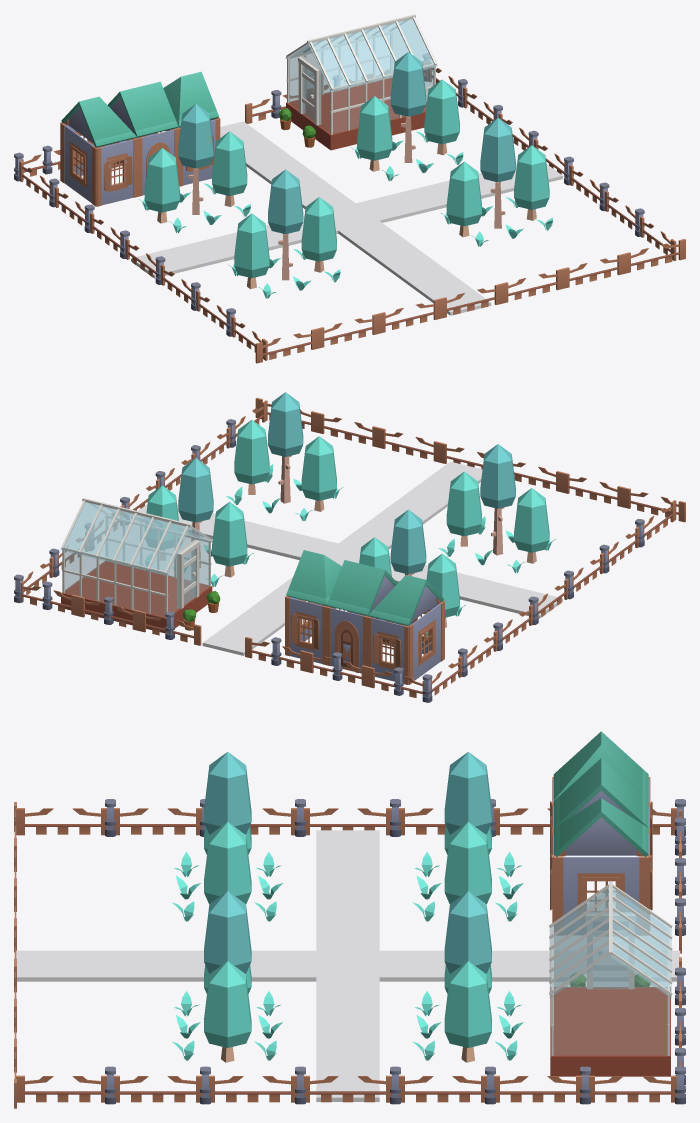
File: london_bld_botanic.glb
3 views of the same model, one above another, from view 1: azimuth 30°, elevation 25°; view 2: azimuth 150°, elevation 25°; view 3: azimuth 270°, elevation 25° (orthographic). The views are drawn at different scales.
Parts seen in each view (by area): view 1: tree_fat (×8), Plate_Pavement_01 (×11), tree_default_dark (×4), Greenhouse glass, wall-window-shutters (×3), balcony-wall-fence (×7), Greenhouse roof glass, roof-gable-end (×2), Greenhouse base, Greenhouse frame, roof-gable, wall-door (+1 smaller); view 2: tree_fat (×8), Plate_Pavement_01 (×10), Greenhouse glass, tree_default_dark (×4), balcony-wall-fence (×11), wall-window-shutters (×3), Greenhouse roof glass, Greenhouse base, Greenhouse frame, roof-gable-end (×2), roof-gable, wall-door (+3 smaller); view 3: Plate_Pavement_01 (×13), Greenhouse glass, tree_fat (×4), tree_default_dark (×4), balcony-wall-fence (×11), Greenhouse base, roof-gable-end (×2), Greenhouse roof glass, wall-window-shutters, Greenhouse frame, roof-gable, Greenhouse door frame (+1 smaller).
Boxes of the visible parts, <box> form: tree_fat (×8): <box>144,79,549,289</box>; Plate_Pavement_01 (×11): <box>131,121,501,315</box>; tree_default_dark (×4): <box>178,52,515,280</box>; Greenhouse glass: <box>289,19,433,133</box>; wall-window-shutters (×3): <box>60,118,219,206</box>; balcony-wall-fence (×7): <box>255,239,685,363</box>; Greenhouse roof glass: <box>285,19,437,92</box>; roof-gable-end (×2): <box>61,71,218,147</box>; Greenhouse base: <box>286,78,426,150</box>; Greenhouse frame: <box>286,14,436,134</box>; roof-gable: <box>107,81,178,137</box>; wall-door: <box>137,128,178,196</box>; tree_fat (×8): <box>145,420,549,627</box>; Plate_Pavement_01 (×10): <box>199,461,562,655</box>; Greenhouse glass: <box>65,502,208,616</box>; tree_default_dark (×4): <box>178,392,515,576</box>; balcony-wall-fence (×11): <box>20,412,685,697</box>; wall-window-shutters (×3): <box>285,597,444,684</box>; Greenhouse roof glass: <box>60,502,212,575</box>; Greenhouse base: <box>61,561,212,633</box>; Greenhouse frame: <box>61,498,211,618</box>; roof-gable-end (×2): <box>286,550,443,625</box>; roof-gable: <box>327,560,397,615</box>; wall-door: <box>326,606,367,673</box>; Plate_Pavement_01 (×13): <box>16,830,680,1101</box>; Greenhouse glass: <box>554,889,667,1055</box>; tree_fat (×4): <box>204,822,491,1062</box>; tree_default_dark (×4): <box>204,752,491,973</box>; balcony-wall-fence (×11): <box>15,808,676,1102</box>; Greenhouse base: <box>550,987,670,1076</box>; roof-gable-end (×2): <box>553,731,648,857</box>; Greenhouse roof glass: <box>549,888,671,998</box>; wall-window-shutters: <box>553,856,648,934</box>; Greenhouse frame: <box>549,881,672,1055</box>; roof-gable: <box>553,758,648,827</box>; Greenhouse door frame: <box>586,913,635,989</box>.
Size of the model in its own units: 21 by 5.12 by 21.23.
17 materials, 6 textured.
